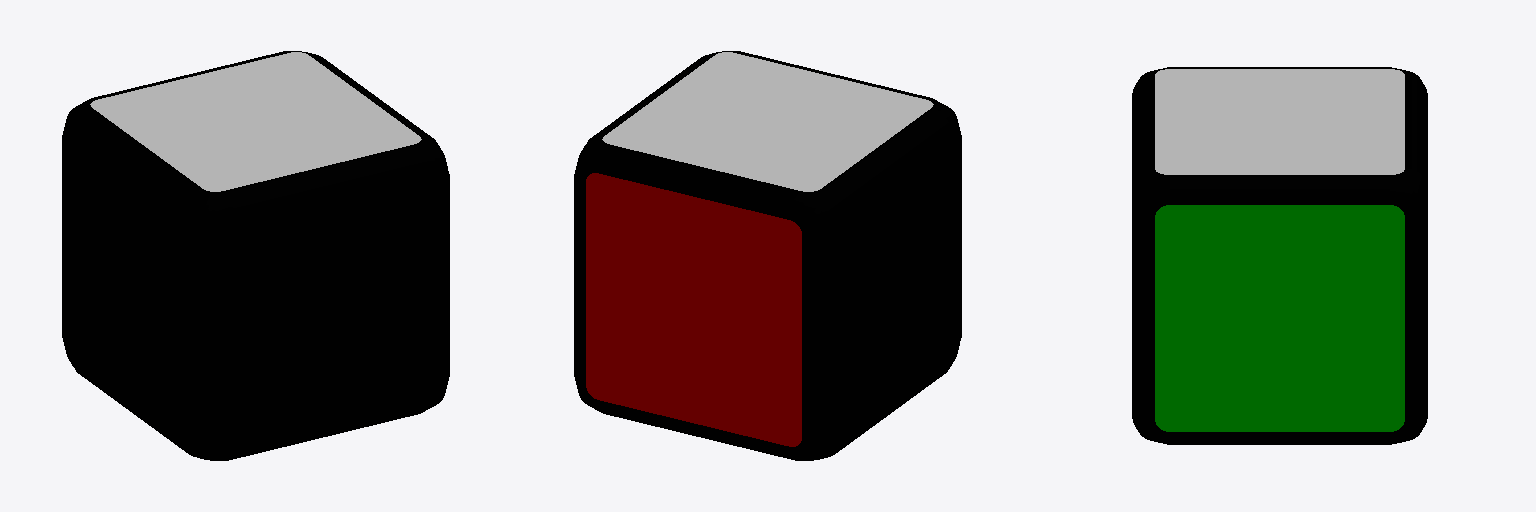
Rendered from corner_rgw.obj.
The picture shows the model from 3 angles: view 1: azimuth 30°, elevation 25°; view 2: azimuth 150°, elevation 25°; view 3: azimuth 270°, elevation 25°; orthographic projection.
Visible parts, largest first — view 1: Cube; view 2: Cube; view 3: Cube.
Boxes of the visible parts, x1,y1,x2,y2 form: Cube: [62, 51, 449, 460]; Cube: [574, 51, 961, 460]; Cube: [1132, 67, 1427, 444].
Size of the model in its own units: 2 by 2 by 2.